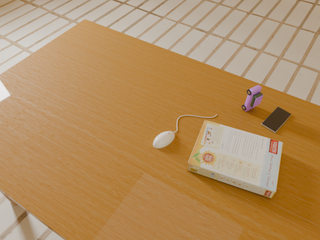box: (187, 120, 283, 198)
mouse: (153, 131, 175, 148)
phone: (261, 107, 291, 133)
toy_car: (242, 85, 263, 111)
